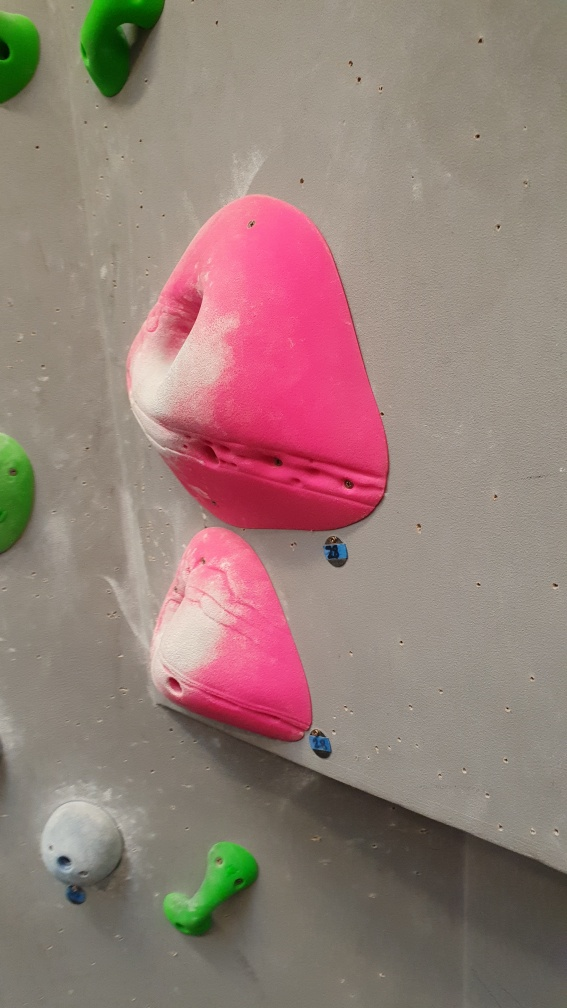Hand Start: (318, 532, 352, 570), (304, 725, 335, 760), (64, 884, 87, 904)
Pocket: (125, 187, 391, 530), (145, 524, 316, 746)
Sloper: (38, 798, 126, 892)
